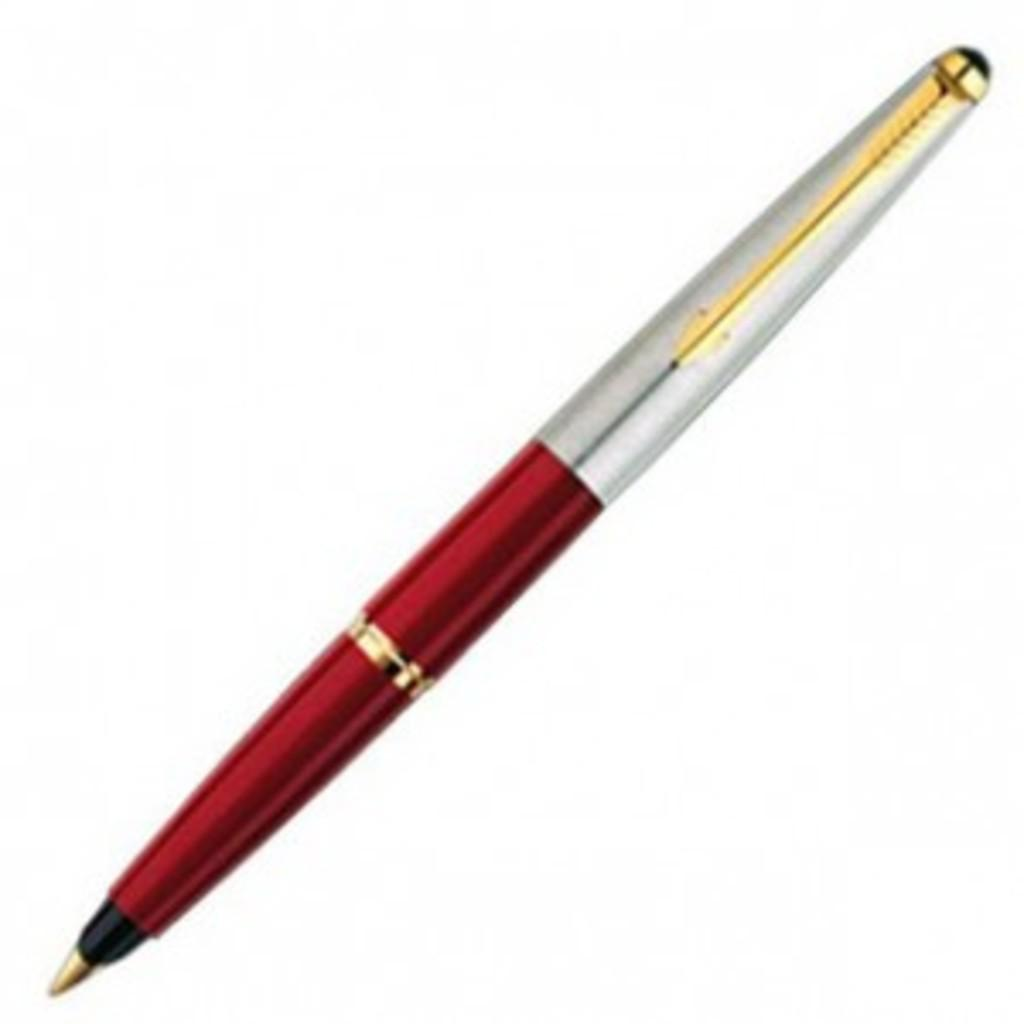pen: (48, 38, 990, 993)
